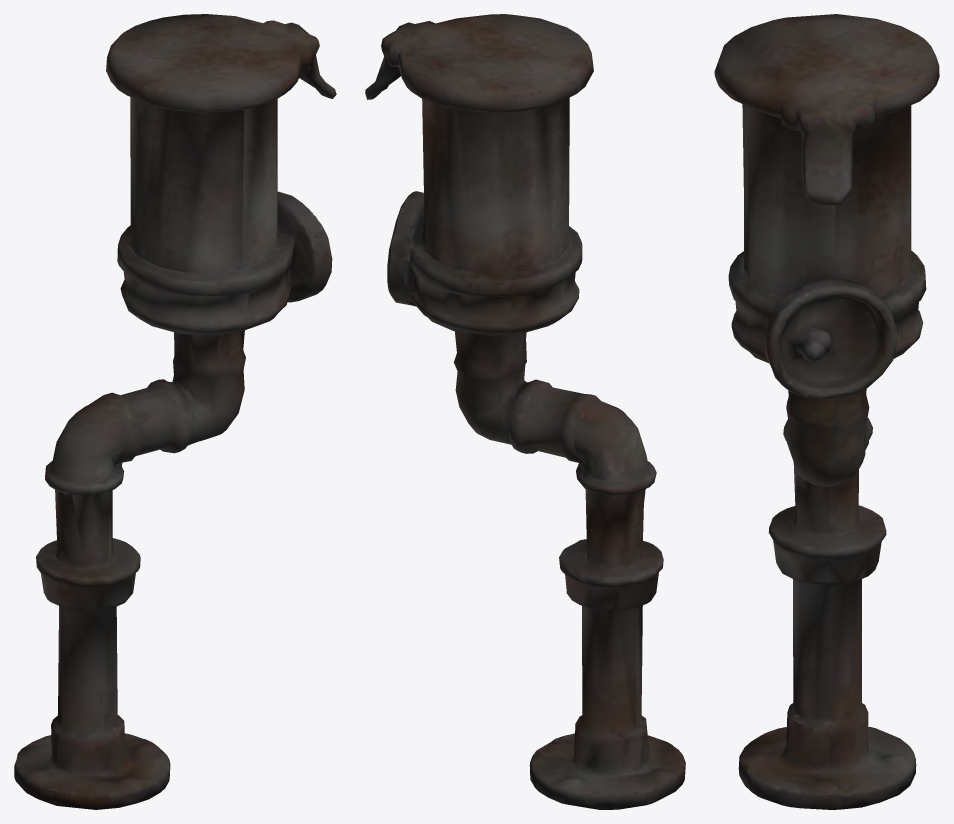
The model's file is old-iron-drainpipe-v002.glb.
3 views of the same model, side by side, from view 1: azimuth 30°, elevation 25°; view 2: azimuth 150°, elevation 25°; view 3: azimuth 270°, elevation 25° (orthographic). The views are drawn at different scales.
Visible parts, largest first — view 1: old-iron-drainpipe; view 2: old-iron-drainpipe; view 3: old-iron-drainpipe.
Boxes of the visible parts, bbox=[...] form: old-iron-drainpipe: bbox=[14, 14, 336, 809]; old-iron-drainpipe: bbox=[365, 14, 685, 809]; old-iron-drainpipe: bbox=[714, 14, 939, 809].
Size of the model in its own units: 1.29 by 2.83 by 0.74.
Materials: 1 (1 with a texture image).
